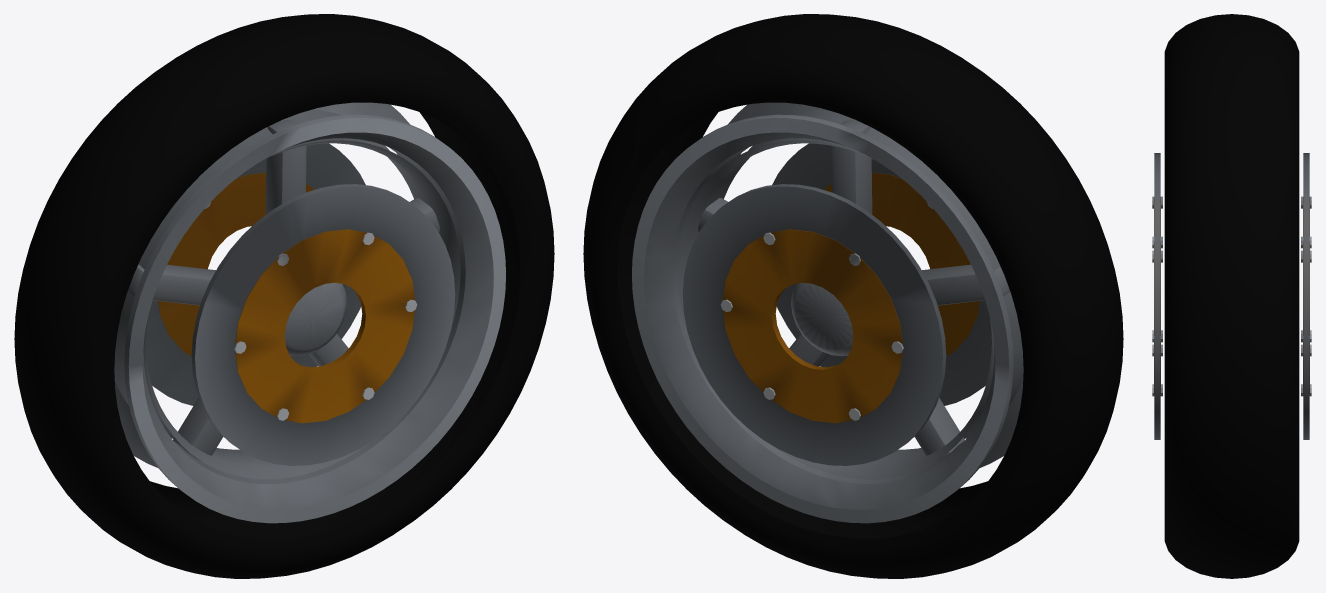
File: bike_strada_wheelF.glb
3 renders of one model, left to right at view 1: azimuth 30°, elevation 25°; view 2: azimuth 150°, elevation 25°; view 3: azimuth 270°, elevation 25°, orthographic. The views are drawn at different scales.
Parts seen in each view (by area): view 1: bk_wheelF_tyre, bk_wheelF_rim, bk_wheelF_disc0.08, bk_wheelF_carrier0.08, bk_wheelF_disc-0.08, bk_wheelF_rimin, bk_wheelF_carrier-0.08, bk_wheelF_hub, bk_wheelF_sp1, bk_wheelF_sp2, bk_wheelF_sp3; view 2: bk_wheelF_tyre, bk_wheelF_rim, bk_wheelF_disc-0.08, bk_wheelF_carrier-0.08, bk_wheelF_disc0.08, bk_wheelF_rimin, bk_wheelF_carrier0.08, bk_wheelF_hub, bk_wheelF_sp1, bk_wheelF_sp2, bk_wheelF_sp3; view 3: bk_wheelF_tyre, bk_wheelF_disc0.08, bk_wheelF_disc-0.08, bk_wheelF_carrier0.08, bk_wheelF_carrier-0.08.
Boxes of the visible parts, x1=… form: bk_wheelF_tyre: x1=14, y1=14, x2=554, y2=578; bk_wheelF_rim: x1=114, y1=102, x2=505, y2=523; bk_wheelF_disc0.08: x1=191, y1=184, x2=455, y2=465; bk_wheelF_carrier0.08: x1=235, y1=229, x2=414, y2=423; bk_wheelF_disc-0.08: x1=146, y1=143, x2=365, y2=405; bk_wheelF_rimin: x1=143, y1=138, x2=460, y2=479; bk_wheelF_carrier-0.08: x1=158, y1=172, x2=313, y2=355; bk_wheelF_hub: x1=284, y1=282, x2=346, y2=356; bk_wheelF_sp1: x1=265, y1=120, x2=306, y2=214; bk_wheelF_sp2: x1=127, y1=264, x2=215, y2=305; bk_wheelF_sp3: x1=173, y1=397, x2=223, y2=460; bk_wheelF_tyre: x1=583, y1=14, x2=1123, y2=578; bk_wheelF_rim: x1=632, y1=102, x2=1023, y2=523; bk_wheelF_disc-0.08: x1=682, y1=184, x2=946, y2=465; bk_wheelF_carrier-0.08: x1=723, y1=229, x2=902, y2=423; bk_wheelF_disc0.08: x1=772, y1=143, x2=991, y2=405; bk_wheelF_rimin: x1=677, y1=138, x2=994, y2=479; bk_wheelF_carrier0.08: x1=824, y1=172, x2=979, y2=355; bk_wheelF_hub: x1=791, y1=282, x2=853, y2=356; bk_wheelF_sp1: x1=831, y1=120, x2=872, y2=214; bk_wheelF_sp2: x1=922, y1=264, x2=1010, y2=305; bk_wheelF_sp3: x1=914, y1=397, x2=964, y2=460; bk_wheelF_tyre: x1=1164, y1=14, x2=1299, y2=578; bk_wheelF_disc0.08: x1=1154, y1=153, x2=1160, y2=439; bk_wheelF_disc-0.08: x1=1303, y1=153, x2=1309, y2=439; bk_wheelF_carrier0.08: x1=1154, y1=197, x2=1160, y2=394; bk_wheelF_carrier-0.08: x1=1303, y1=197, x2=1309, y2=394.
Bounding box in the file's own units: 0.63 × 0.63 × 0.178.
